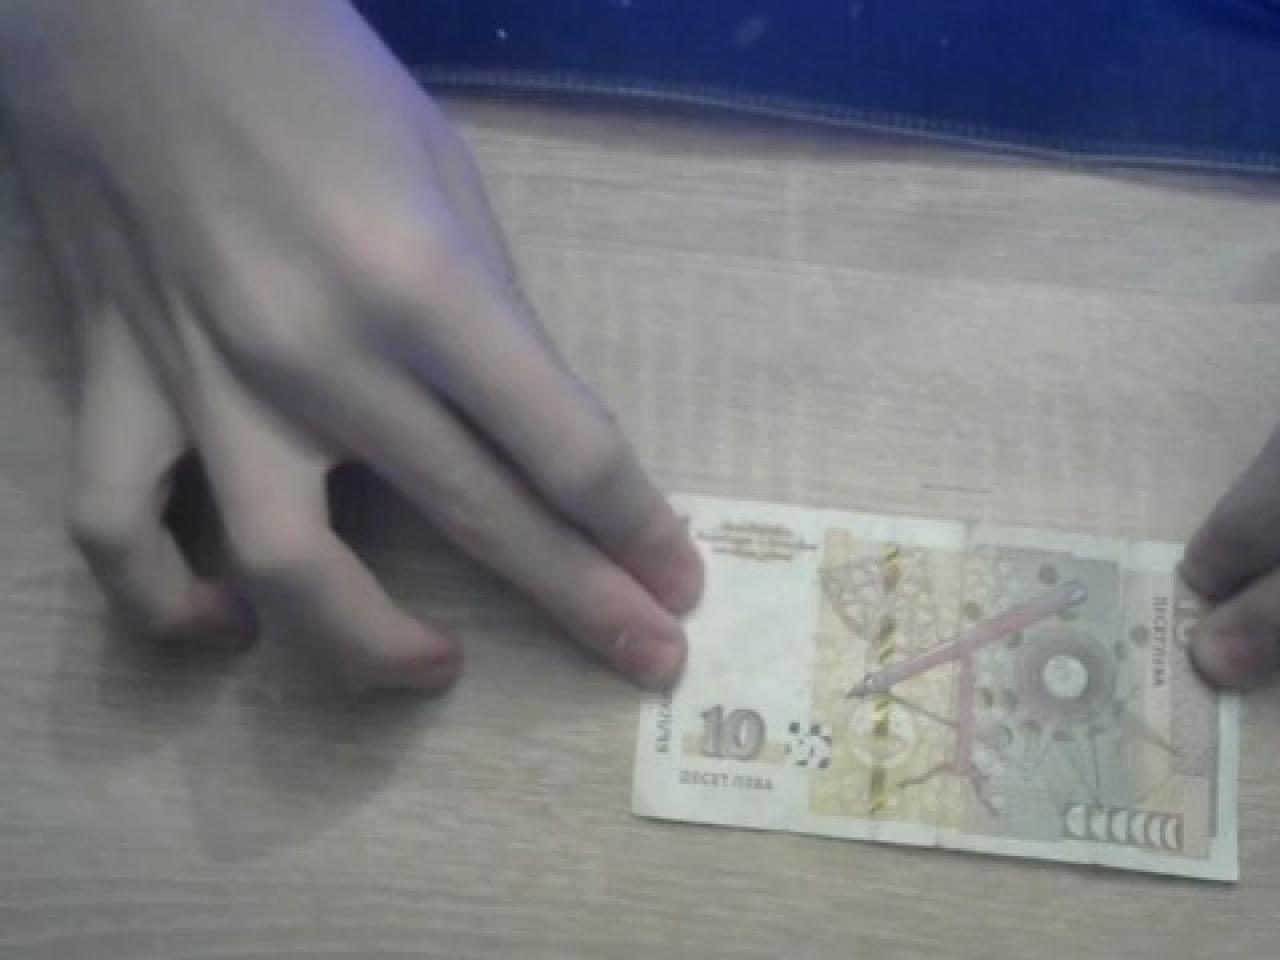10leva: (629, 493, 1243, 888)
